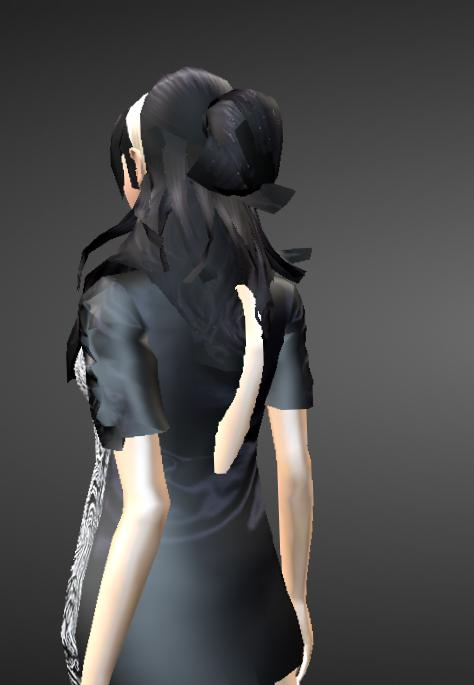clip: (220, 274, 278, 335)
